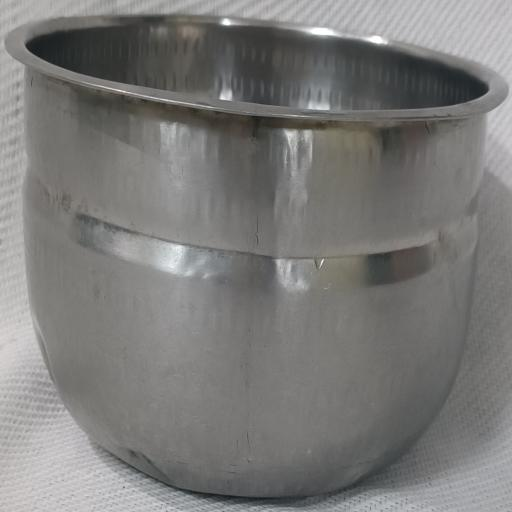vessel: (4, 14, 507, 496)
